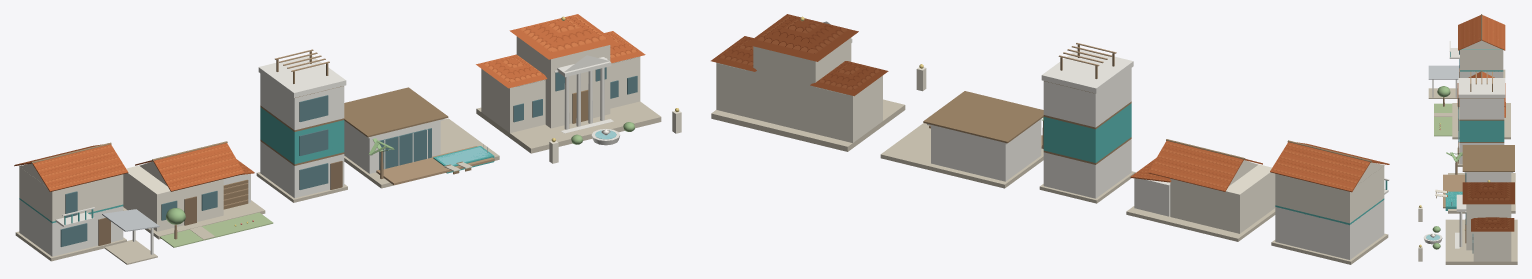
The model's file is kit-31-rumah-6-10.glb.
3 views of the same model, side by side, from view 1: azimuth 30°, elevation 25°; view 2: azimuth 150°, elevation 25°; view 3: azimuth 270°, elevation 25° (orthographic). The views are drawn at different scales.
Visible parts, largest first — view 1: Rumah10_Mansion, Rumah6_Kota2Lantai, Rumah8_TownhouseModern, Rumah7_TamanGarasi, Rumah9_VillaKolam; view 2: Rumah10_Mansion, Rumah8_TownhouseModern, Rumah6_Kota2Lantai, Rumah7_TamanGarasi, Rumah9_VillaKolam; view 3: Rumah10_Mansion, Rumah6_Kota2Lantai, Rumah8_TownhouseModern, Rumah9_VillaKolam, Rumah7_TamanGarasi.
Part boxes in pixels (x1,y1,x2,y2): Rumah10_Mansion: (476, 14, 681, 163); Rumah6_Kota2Lantai: (14, 142, 159, 264); Rumah8_TownhouseModern: (256, 49, 347, 202); Rumah7_TamanGarasi: (123, 141, 273, 247); Rumah9_VillaKolam: (344, 87, 499, 188); Rumah10_Mansion: (711, 14, 926, 151); Rumah8_TownhouseModern: (1039, 43, 1135, 203); Rumah6_Kota2Lantai: (1270, 140, 1389, 264); Rumah7_TamanGarasi: (1126, 139, 1275, 241); Rumah9_VillaKolam: (880, 91, 1043, 188); Rumah10_Mansion: (1418, 180, 1517, 264); Rumah6_Kota2Lantai: (1428, 14, 1505, 98); Rumah8_TownhouseModern: (1457, 71, 1505, 166); Rumah9_VillaKolam: (1435, 145, 1515, 213); Rumah7_TamanGarasi: (1434, 70, 1510, 139).
Size of the model in its own units: 51.15 by 9.88 by 11.05.
Materials: 19 (1 with a texture image).
